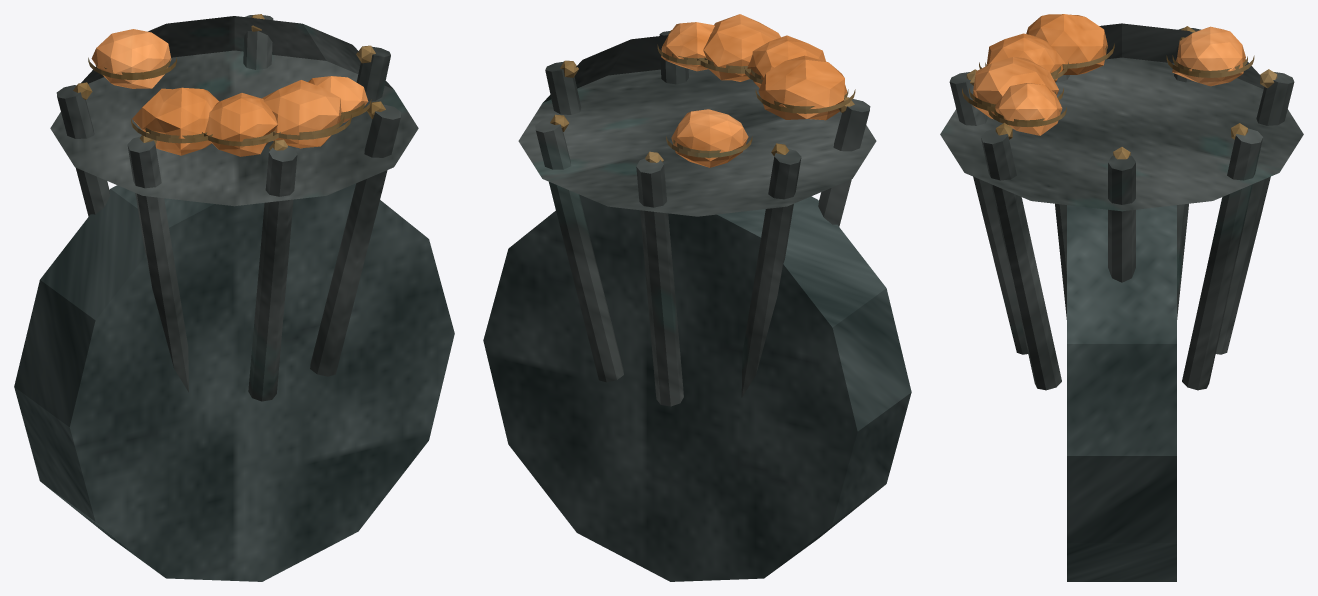
Rendered from 0548_brazier_23.glb.
The picture shows the model from 3 angles, left to right: view 1: azimuth 30°, elevation 25°; view 2: azimuth 150°, elevation 25°; view 3: azimuth 270°, elevation 25°; orthographic projection. The views are drawn at different scales.
Parts seen in each view (by area): view 1: stone_dark, iron, amber, brass; view 2: stone_dark, iron, amber, brass; view 3: iron, stone_dark, amber, brass.
Part boxes in pixels (<box>): stone_dark: <box>14,183,454,581</box>; iron: <box>50,15,418,401</box>; amber: <box>91,29,368,156</box>; brass: <box>73,14,385,150</box>; stone_dark: <box>483,194,911,581</box>; iron: <box>518,31,876,406</box>; amber: <box>661,14,846,167</box>; brass: <box>550,30,855,162</box>; iron: <box>940,23,1303,390</box>; stone_dark: <box>1067,205,1176,581</box>; amber: <box>972,14,1245,135</box>; brass: <box>962,26,1277,159</box>.
Size of the model in its own units: 1.4 by 1.79 by 1.16.
4 materials, 4 textured.
